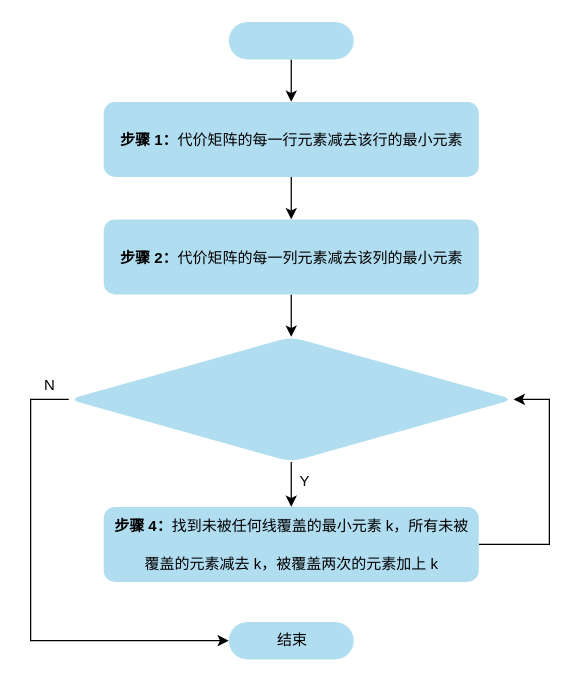
Some shapes in this 581 by 680 pixel diagram are drawn without their labels. The centre of each missing label's shape, as x and y in pixels:
"开始" belongs at [290,40].
"步骤 3： 用尽量少的线覆盖住矩阵中 所有的 0，并判断线的数量是否 < n" belongs at [290,398].
